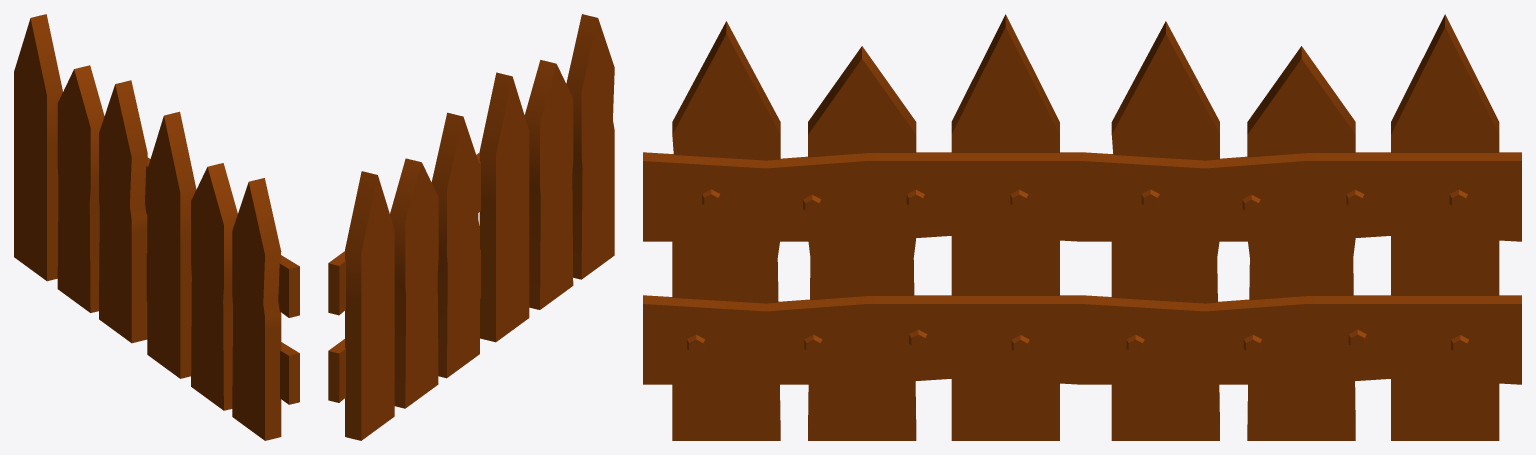
Rendered from Valla_01.fbx.
3 views of the same model, side by side, from view 1: azimuth 30°, elevation 25°; view 2: azimuth 150°, elevation 25°; view 3: azimuth 270°, elevation 25° (orthographic). The views are drawn at different scales.
Parts seen in each view (by area): view 1: Valla_01; view 2: Valla_01; view 3: Valla_01.
Part boxes in pixels (<box>): Valla_01: <box>14,14,299,440</box>; Valla_01: <box>328,14,614,440</box>; Valla_01: <box>643,14,1521,440</box>.
Bounding box in the file's own units: 27.93 × 229 × 441.
